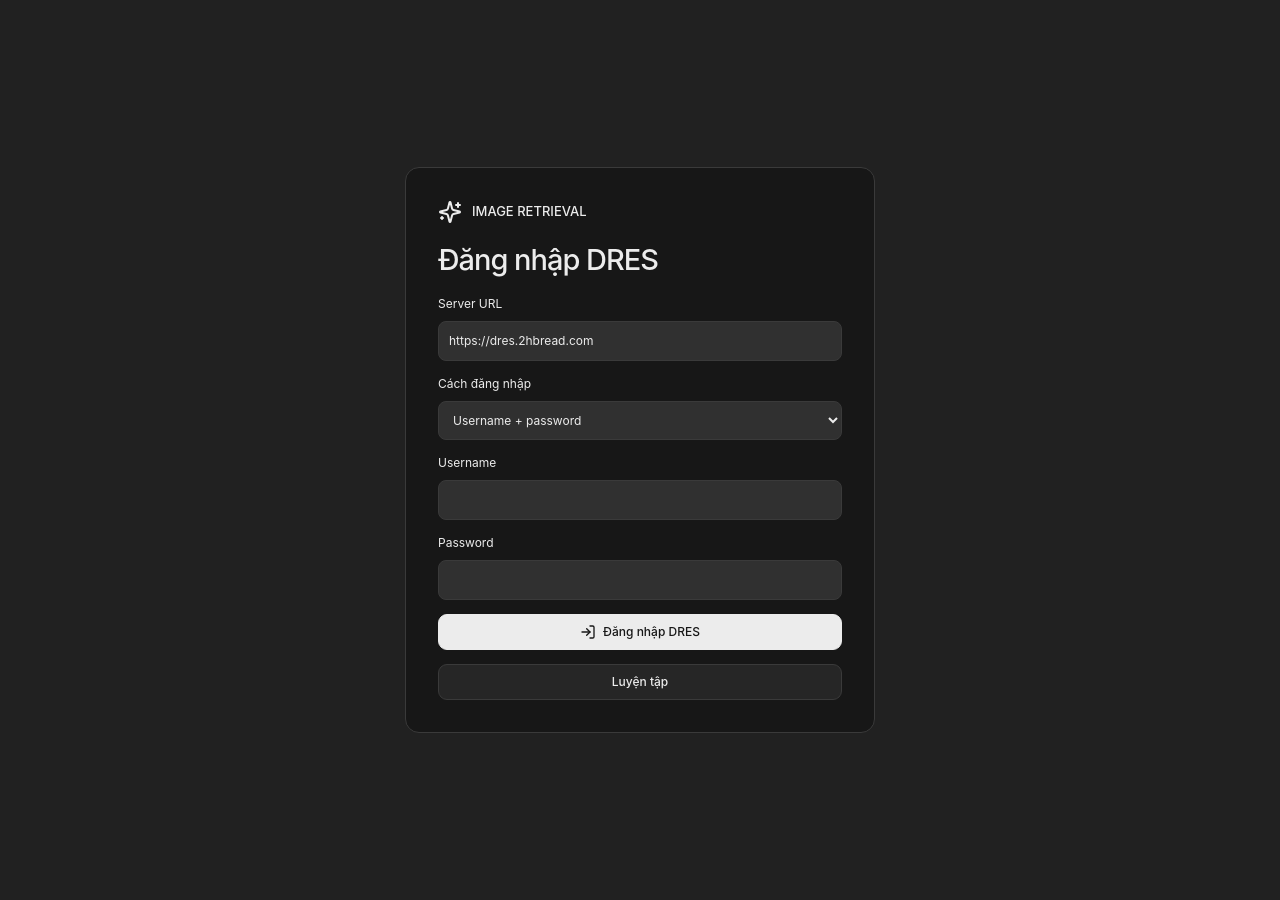
Scenario: image workbench entry and shortcuts › enters the automatically selected evaluation and keeps credentials out of browser storage
Replace the text in the field labelled "Server URL" with "https://dres.test": (640,341) x1=438 y1=321 x2=842 y2=361
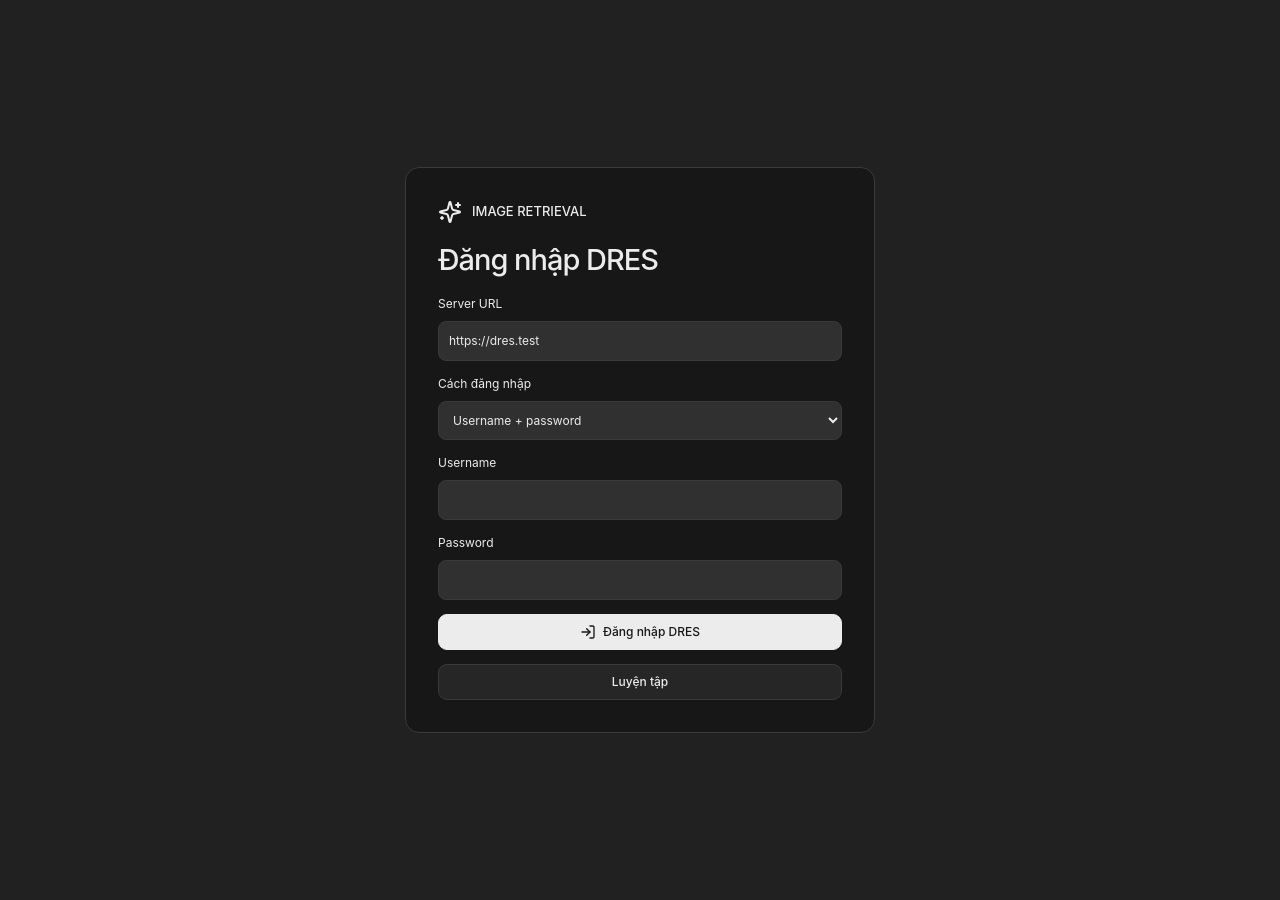
In the field labelled "Username": (640,500) x1=438 y1=480 x2=842 y2=520, type "tester"
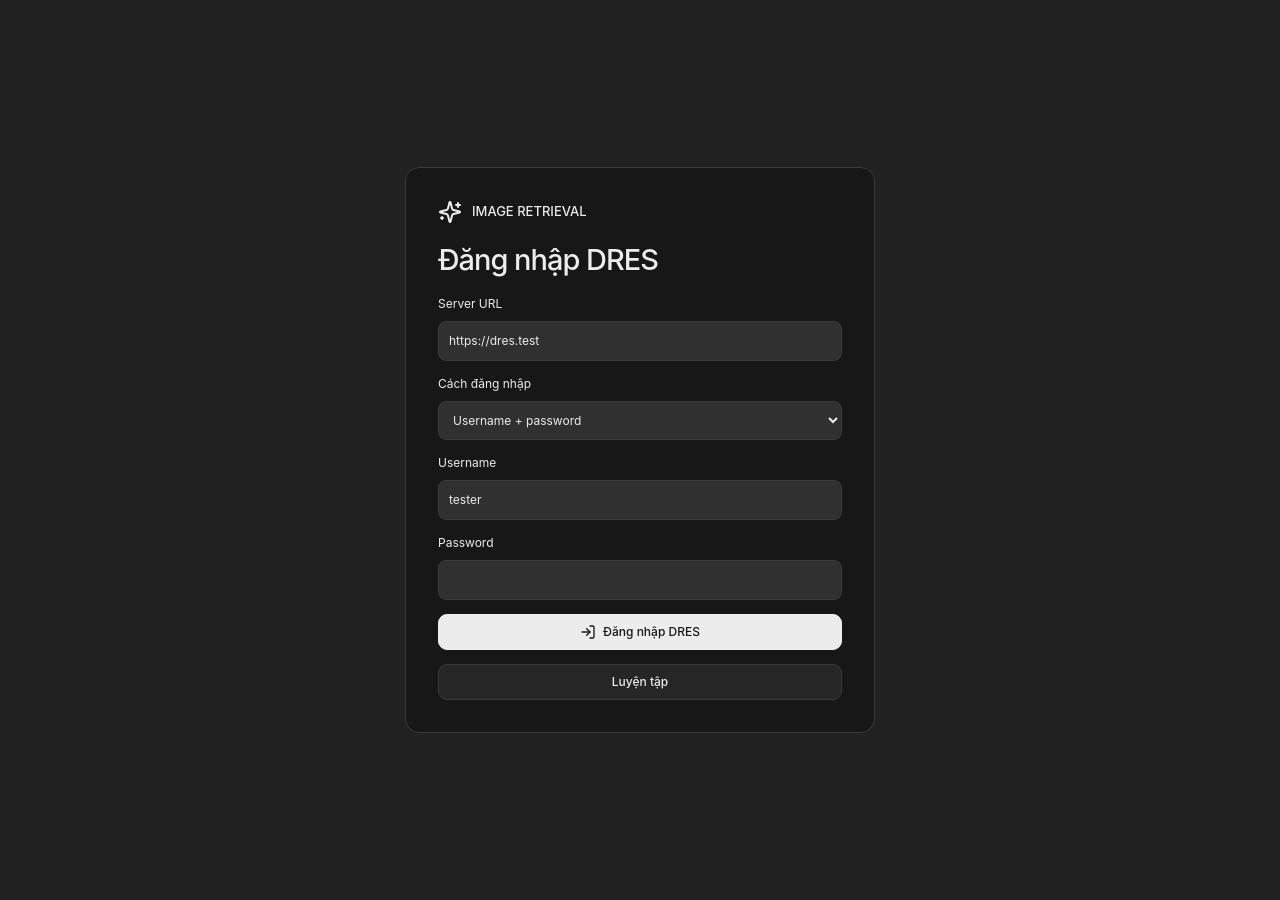
In the password field labelled "Password": (640,580) x1=438 y1=560 x2=842 y2=600, type "private-password"
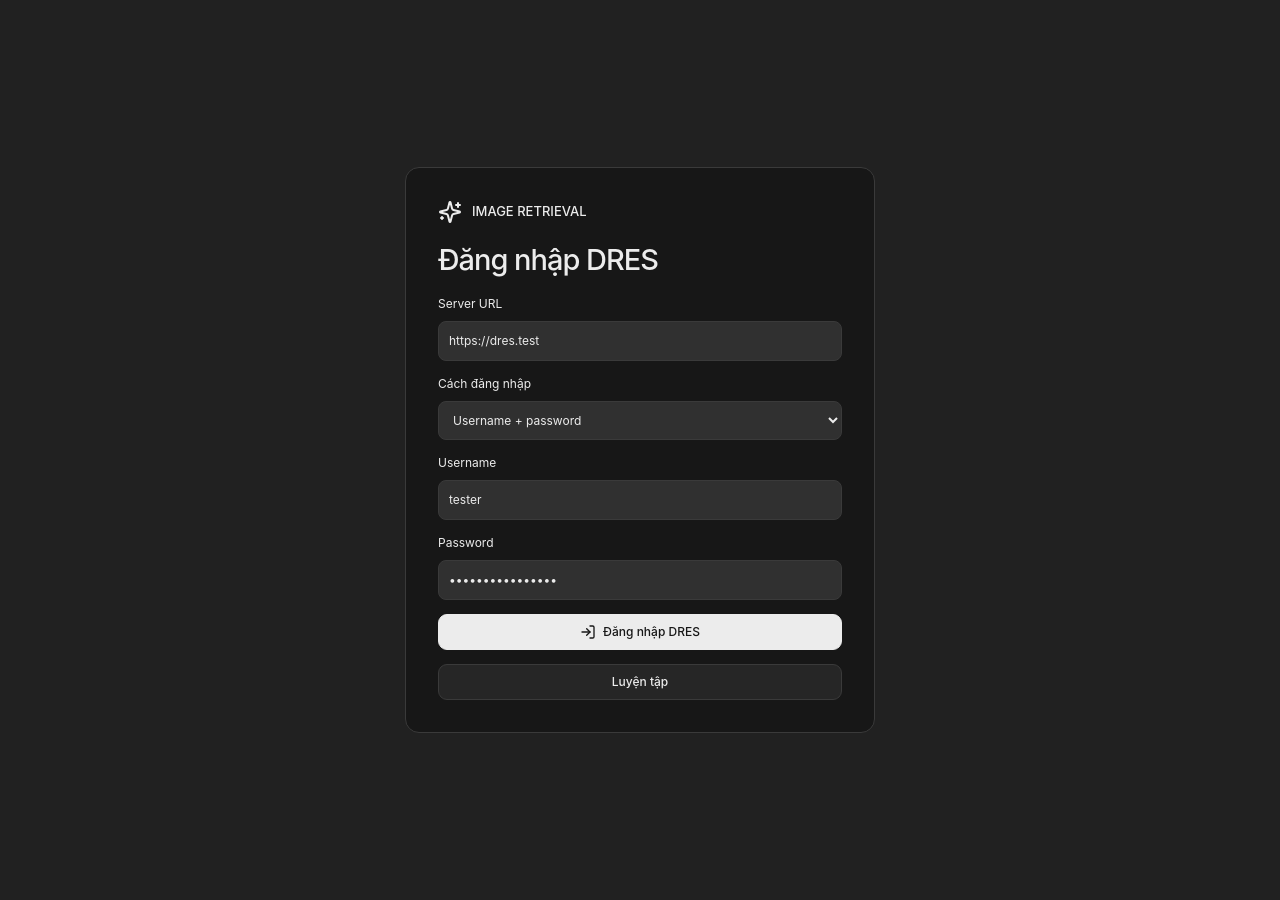
Click the button "Đăng nhập DRES": (640,632) x1=438 y1=614 x2=842 y2=650
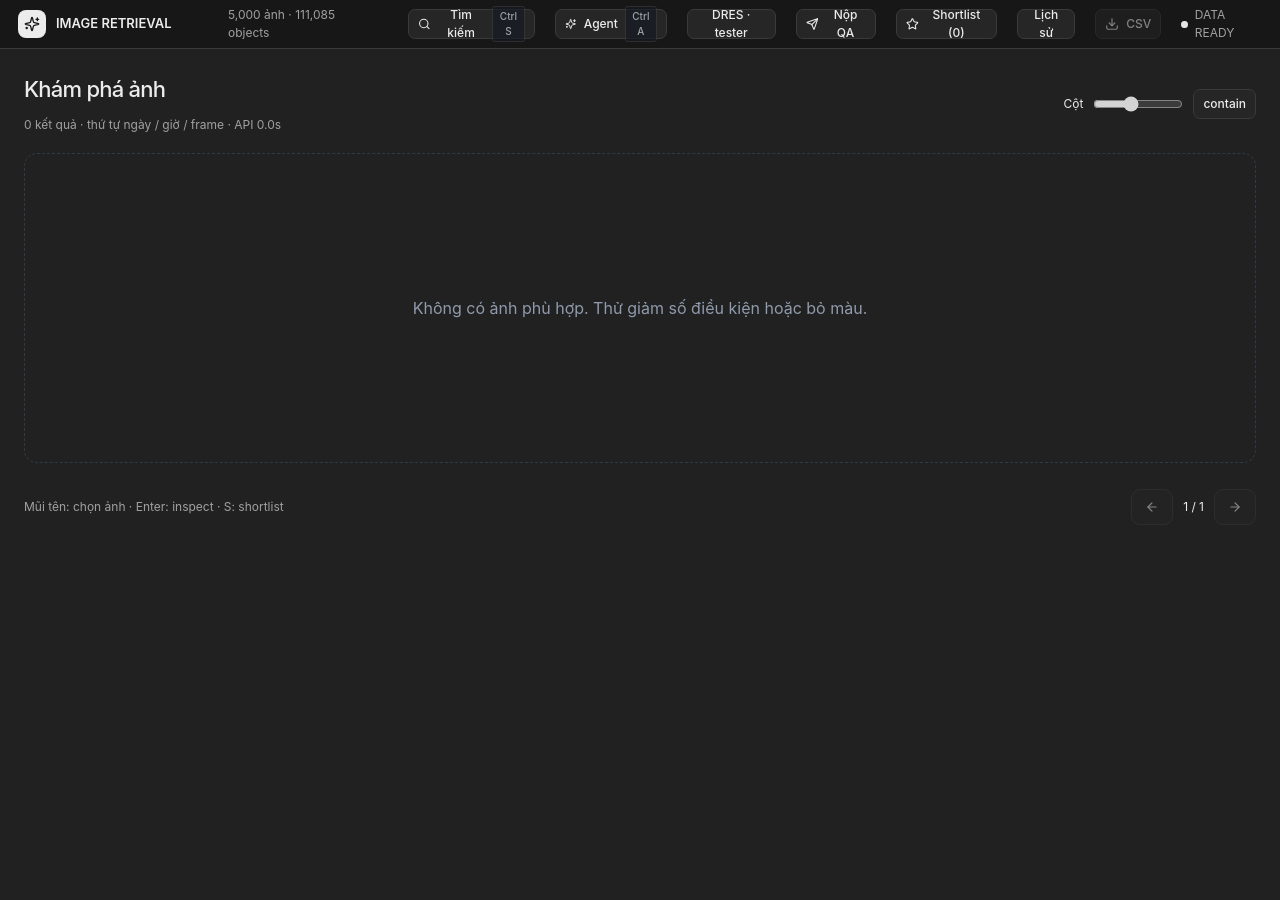
Now the heading "Khám phá ảnh" is shown, box x1=24 y1=76 x2=165 y2=102
Now the button "DRES · tester" is shown, box x1=687 y1=9 x2=776 y2=39
